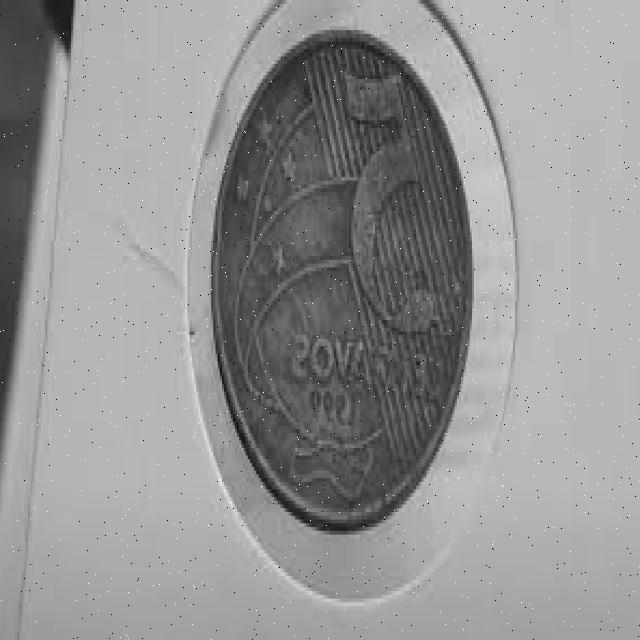5 cent: (210, 28, 474, 528)
